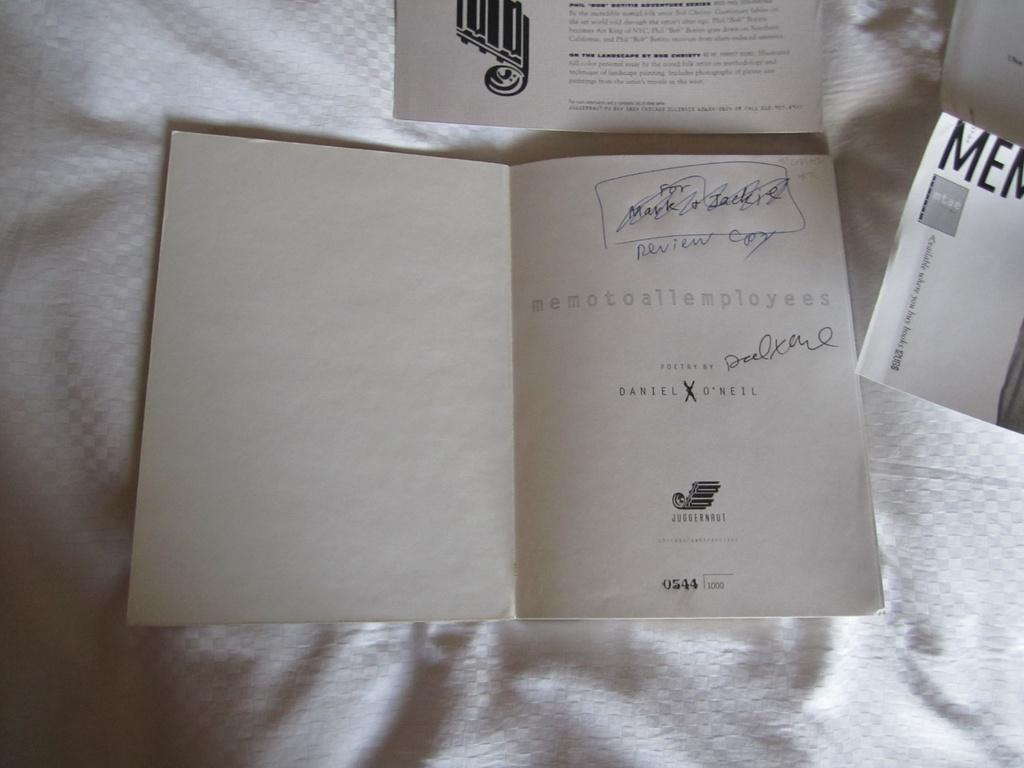book: (123, 129, 893, 630)
